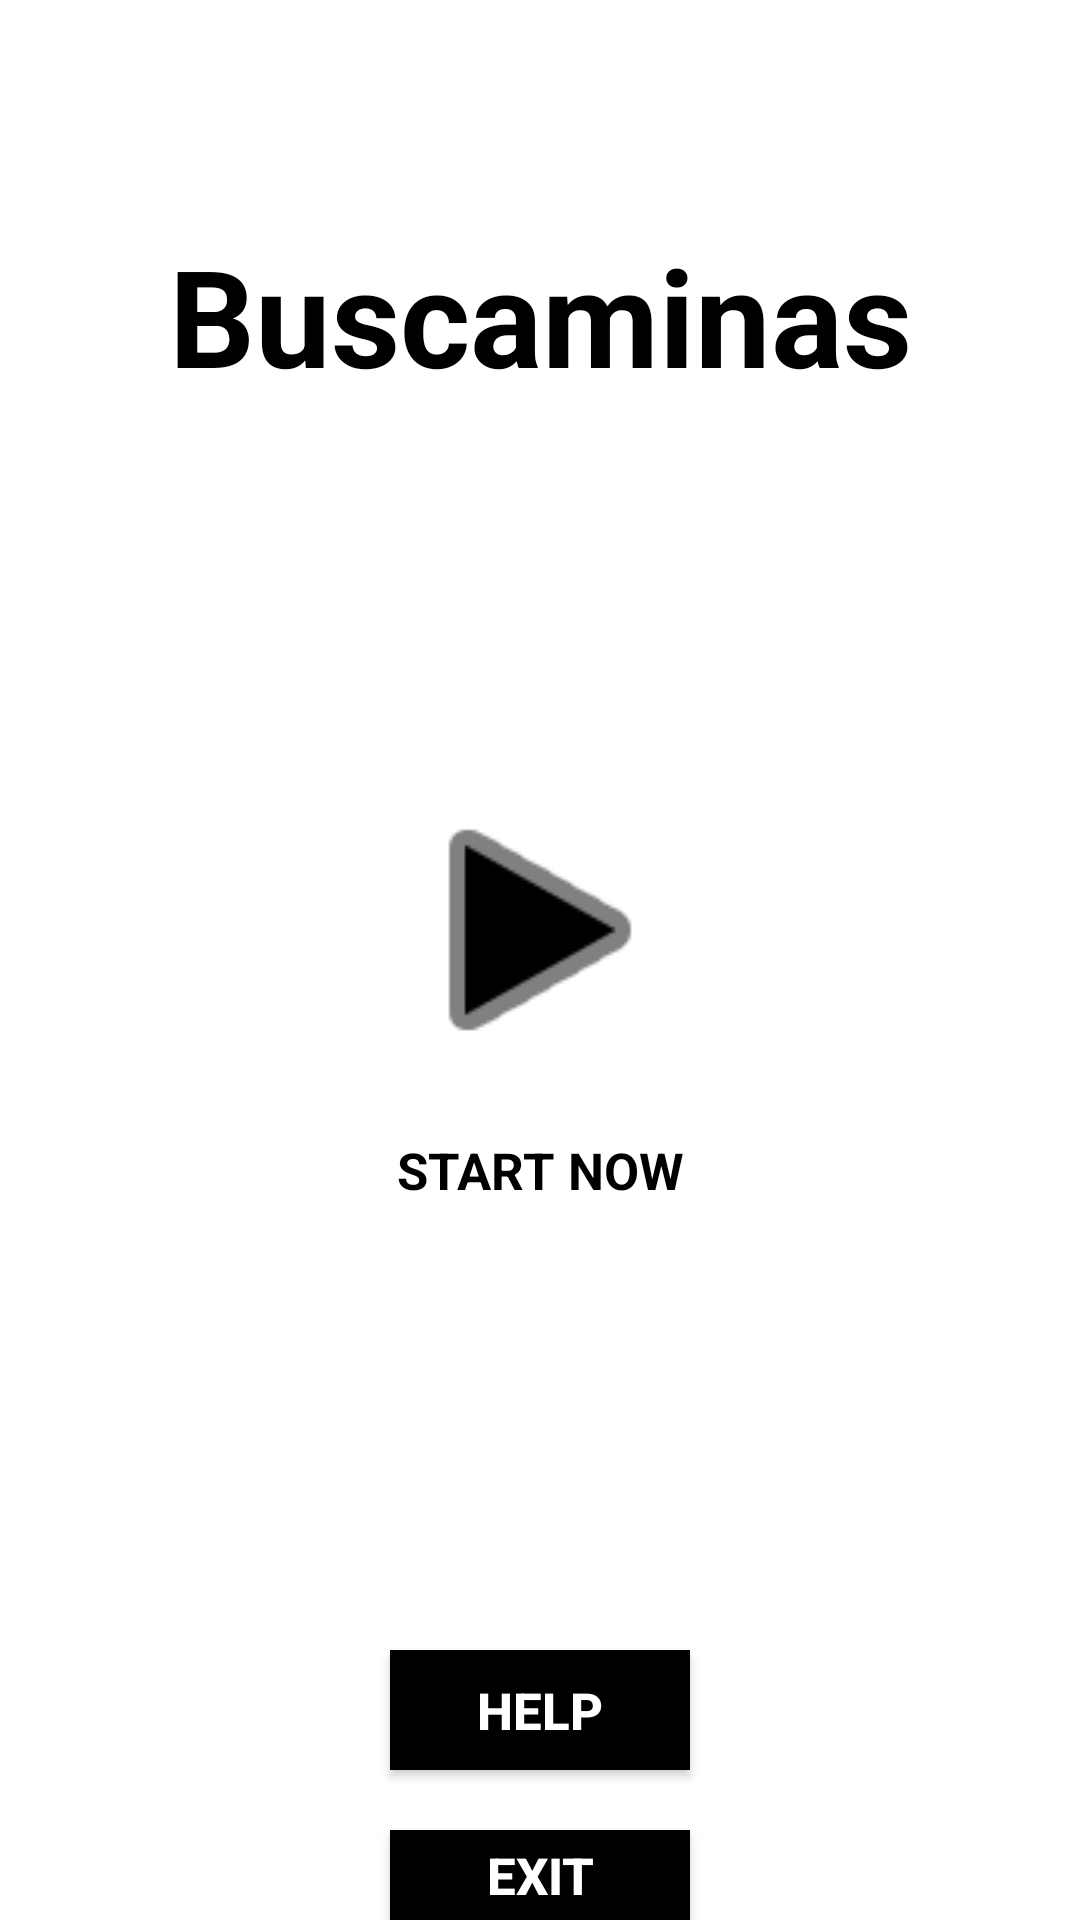

Point at icon controls on the screen. Image size 1080 x 1920, points as (x,y).
play: (540,930)
